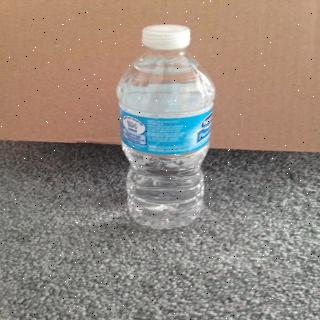Plastic-bottle: (110, 22, 224, 234)
